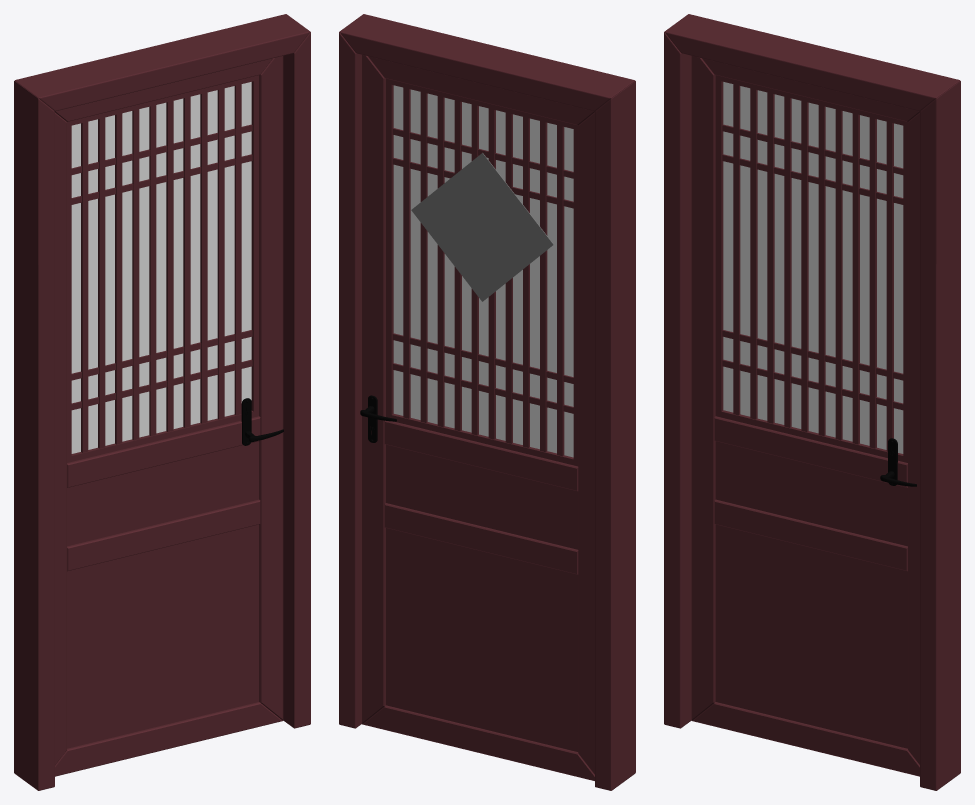
3 renders of one model, left to right at view 1: azimuth 30°, elevation 25°; view 2: azimuth 150°, elevation 25°; view 3: azimuth 330°, elevation 25°, orthographic.
Parts seen in each view (by area): view 1: Obj3d66-8784164-1172-923, Obj3d66-8784164-1176-922, Obj3d66-8784164-1182-294, Obj3d66-8784164-1183-243, Obj3d66-8784164-1156-346, Obj3d66-8784164-1175-520, Obj3d66-8784164-1181-315, Obj3d66-8784164-1155-459, Obj3d66-8784164-1157-689, Obj3d66-8784164-1154-634, Obj3d66-8784164-1174-291, Obj3d66-8784164-1173-366 (+15 smaller); view 2: Obj3d66-8784164-1176-922, Obj3d66-8784164-1172-923, Obj3d66-8784164-1182-294, Obj3d66-8784164-1183-243, Obj3d66-8784164-1156-346, Obj3d66-8784164-1175-520, Obj3d66-8784164-1181-315, Obj3d66-8784164-1155-459, Obj3d66-8784164-1148-581, Obj3d66-8784164-1157-689, Obj3d66-8784164-1154-634, Obj3d66-8784164-1174-291 (+16 smaller); view 3: Obj3d66-8784164-1172-923, Obj3d66-8784164-1176-922, Obj3d66-8784164-1183-243, Obj3d66-8784164-1182-294, Obj3d66-8784164-1155-459, Obj3d66-8784164-1175-520, Obj3d66-8784164-1181-315, Obj3d66-8784164-1156-346, Obj3d66-8784164-1157-689, Obj3d66-8784164-1154-634, Obj3d66-8784164-1174-291, Obj3d66-8784164-1173-366 (+15 smaller).
Boxes of the visible parts, x1=… form: Obj3d66-8784164-1172-923: x1=71, y1=82, x2=251, y2=453; Obj3d66-8784164-1176-922: x1=67, y1=524, x2=259, y2=748; Obj3d66-8784164-1182-294: x1=14, y1=81, x2=54, y2=790; Obj3d66-8784164-1183-243: x1=283, y1=32, x2=310, y2=728; Obj3d66-8784164-1156-346: x1=259, y1=56, x2=283, y2=720; Obj3d66-8784164-1175-520: x1=67, y1=441, x2=259, y2=546; Obj3d66-8784164-1181-315: x1=14, y1=14, x2=310, y2=111; Obj3d66-8784164-1155-459: x1=55, y1=112, x2=66, y2=764; Obj3d66-8784164-1157-689: x1=67, y1=75, x2=259, y2=462; Obj3d66-8784164-1154-634: x1=55, y1=702, x2=282, y2=776; Obj3d66-8784164-1174-291: x1=67, y1=499, x2=260, y2=571; Obj3d66-8784164-1173-366: x1=67, y1=416, x2=260, y2=487; Obj3d66-8784164-1176-922: x1=386, y1=528, x2=578, y2=751; Obj3d66-8784164-1172-923: x1=393, y1=85, x2=573, y2=457; Obj3d66-8784164-1182-294: x1=595, y1=81, x2=635, y2=790; Obj3d66-8784164-1183-243: x1=339, y1=32, x2=361, y2=728; Obj3d66-8784164-1156-346: x1=362, y1=55, x2=385, y2=723; Obj3d66-8784164-1175-520: x1=386, y1=444, x2=578, y2=549; Obj3d66-8784164-1181-315: x1=339, y1=14, x2=635, y2=111; Obj3d66-8784164-1155-459: x1=578, y1=112, x2=594, y2=774; Obj3d66-8784164-1148-581: x1=411, y1=153, x2=553, y2=301; Obj3d66-8784164-1157-689: x1=386, y1=78, x2=578, y2=466; Obj3d66-8784164-1154-634: x1=362, y1=705, x2=594, y2=780; Obj3d66-8784164-1174-291: x1=384, y1=503, x2=578, y2=574; Obj3d66-8784164-1172-923: x1=723, y1=82, x2=903, y2=453; Obj3d66-8784164-1176-922: x1=715, y1=524, x2=907, y2=748; Obj3d66-8784164-1183-243: x1=920, y1=81, x2=960, y2=790; Obj3d66-8784164-1182-294: x1=664, y1=32, x2=691, y2=728; Obj3d66-8784164-1155-459: x1=691, y1=56, x2=715, y2=720; Obj3d66-8784164-1175-520: x1=715, y1=441, x2=907, y2=546; Obj3d66-8784164-1181-315: x1=664, y1=14, x2=960, y2=111; Obj3d66-8784164-1156-346: x1=908, y1=112, x2=919, y2=764; Obj3d66-8784164-1157-689: x1=715, y1=75, x2=907, y2=462; Obj3d66-8784164-1154-634: x1=692, y1=702, x2=919, y2=776; Obj3d66-8784164-1174-291: x1=714, y1=499, x2=907, y2=571; Obj3d66-8784164-1173-366: x1=714, y1=416, x2=907, y2=487.
Size of the model in its own units: 96.01 by 233 by 17.21.
